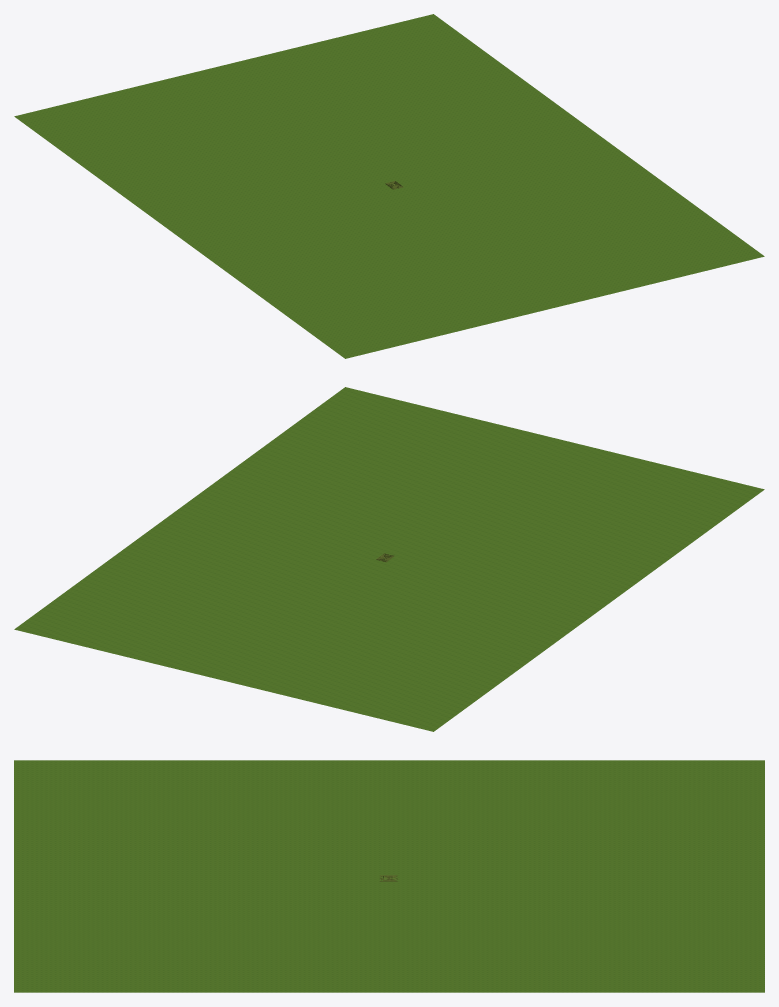
File: ENVO_HedgeMaze.obj
The picture shows the model from 3 angles, top to bottom: view 1: azimuth 30°, elevation 25°; view 2: azimuth 150°, elevation 25°; view 3: azimuth 270°, elevation 25°; orthographic projection. The views are drawn at different scales.
Parts seen in each view (by area): view 1: HedgeMaze; view 2: HedgeMaze; view 3: HedgeMaze.
Part boxes in pixels (box(x1,y1,x2,y2)): HedgeMaze: box(14, 14, 764, 358); HedgeMaze: box(14, 387, 764, 731); HedgeMaze: box(14, 760, 764, 992).
Size of what is drawn, in the model's own units: 82454 by 178 by 112743.
2 materials, 2 textured.
